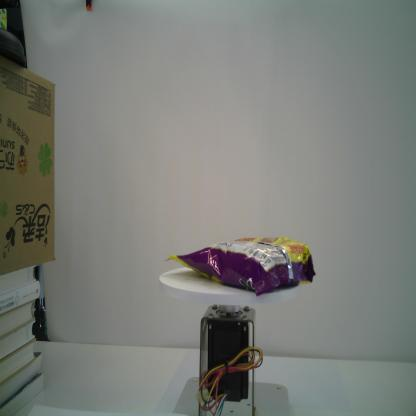Instant Noodles: (163, 236, 317, 297)
